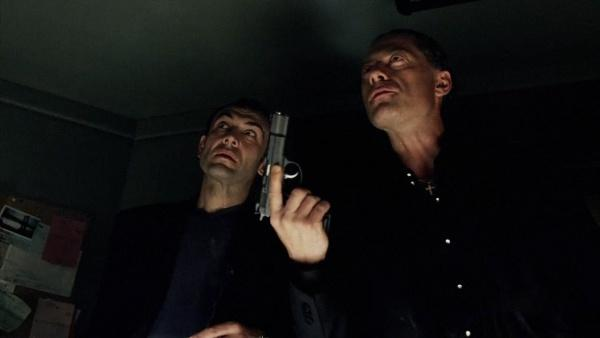Gun: (261, 111, 306, 220)
